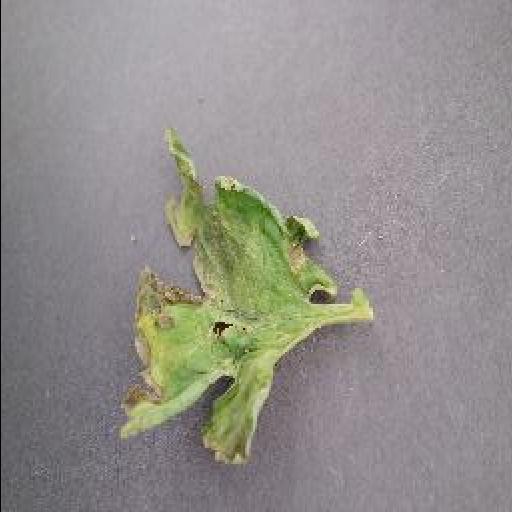disease_tomato: (115, 126, 341, 464)
